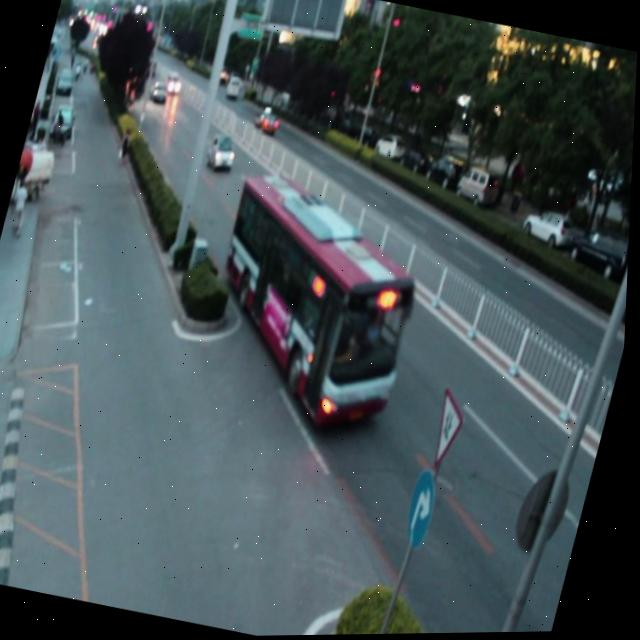car: (204, 131, 240, 172), (252, 106, 282, 136)
van: (189, 167, 439, 442)
